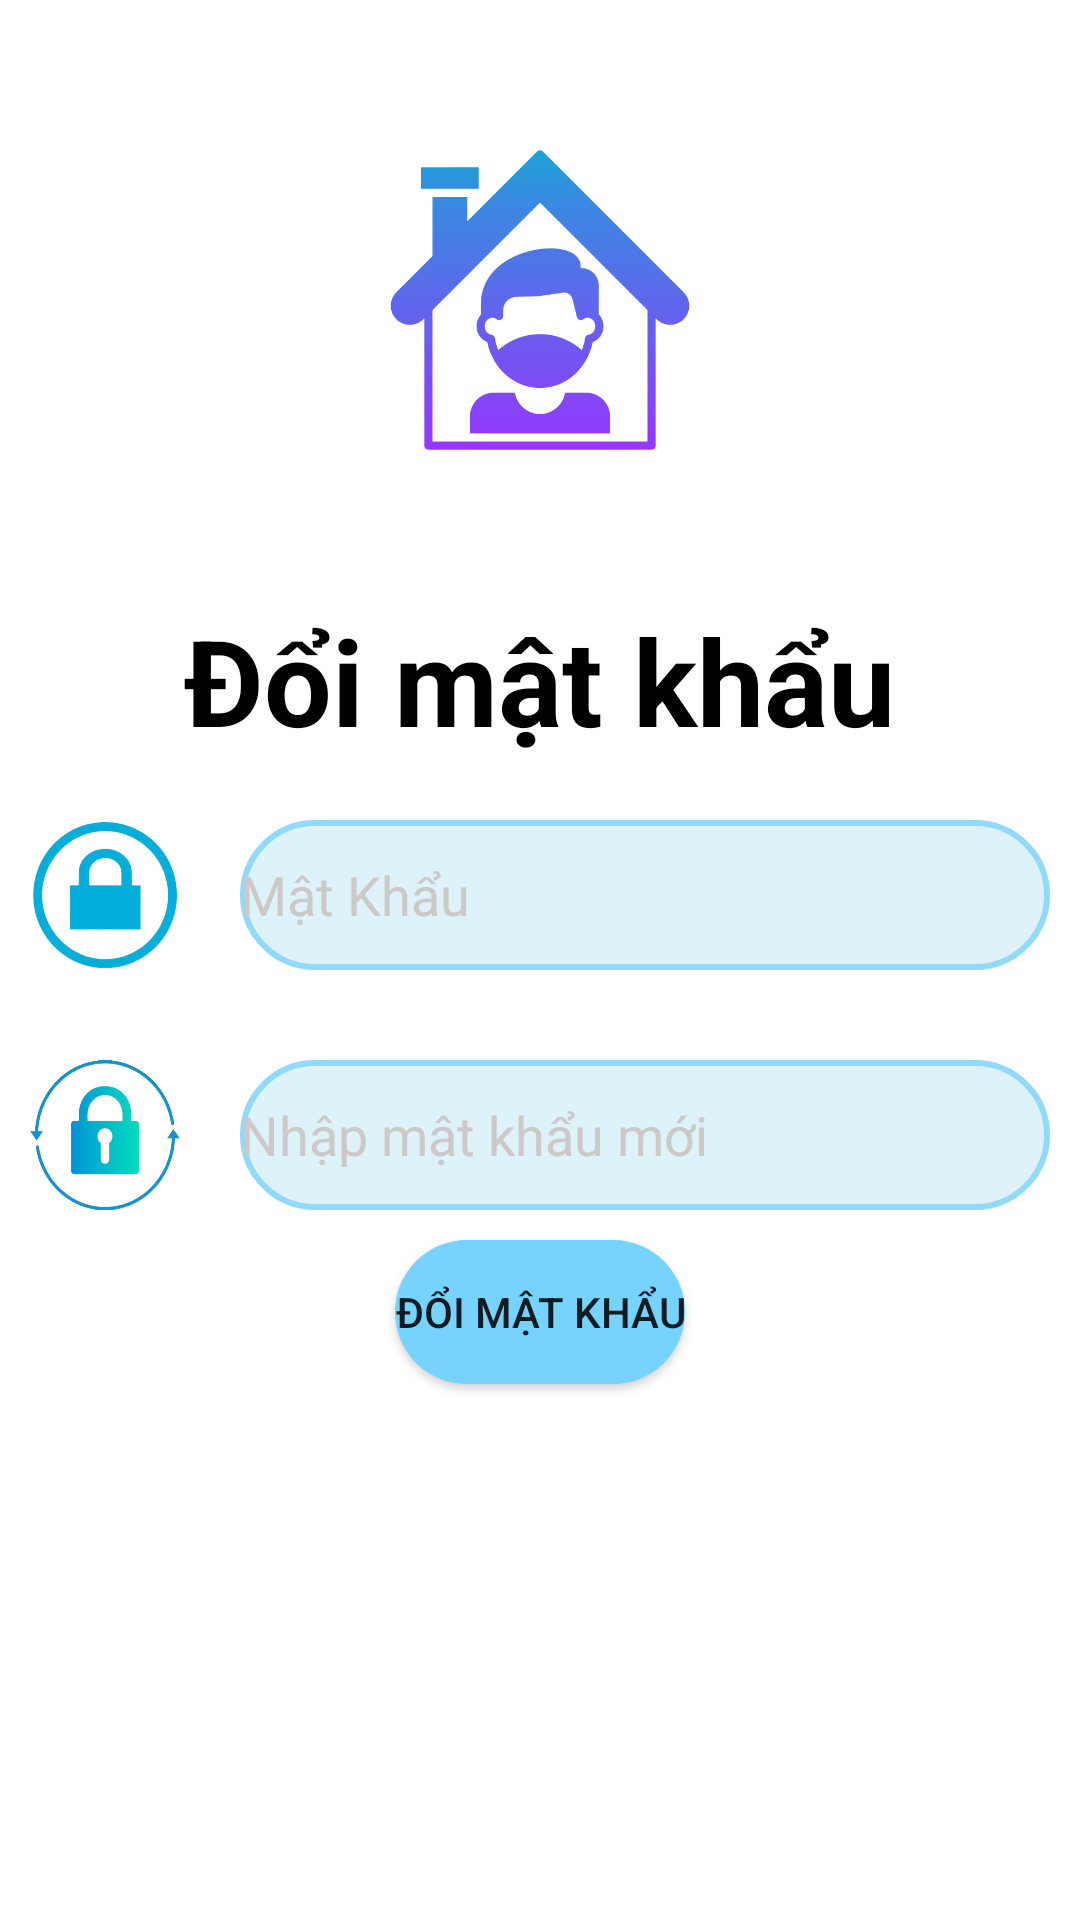

Where to tap for icons on this 1080×1920 app screen, as (x=x, y=y):
iconapp: (x=540, y=300)
iconlock: (x=105, y=895)
iconrepassword: (x=105, y=1135)
